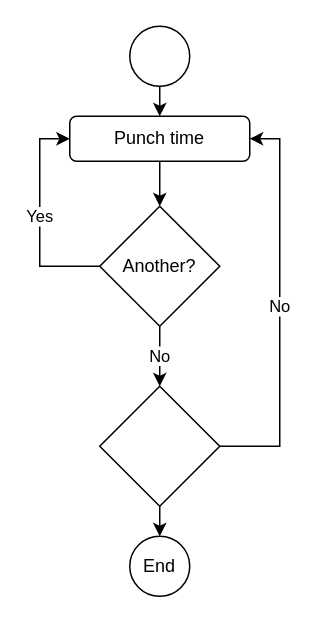
Some shapes in this 318 by 623 pixel diagram are drawn without their labels. Here are the shapes that lost their labels. From the top down, the centre of each, then its label:
pixel 159 55: Start
pixel 159 445: Is even?
